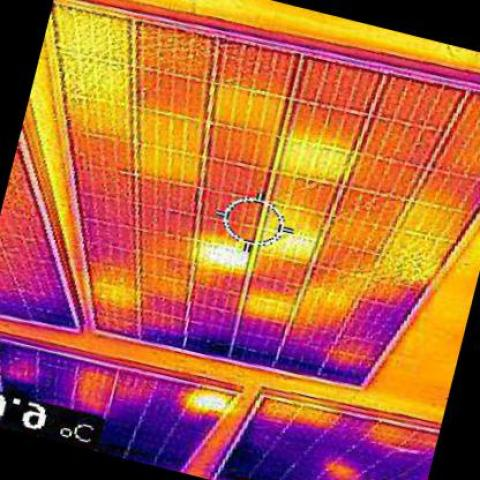fault: (282, 229, 332, 258), (203, 239, 248, 264)
